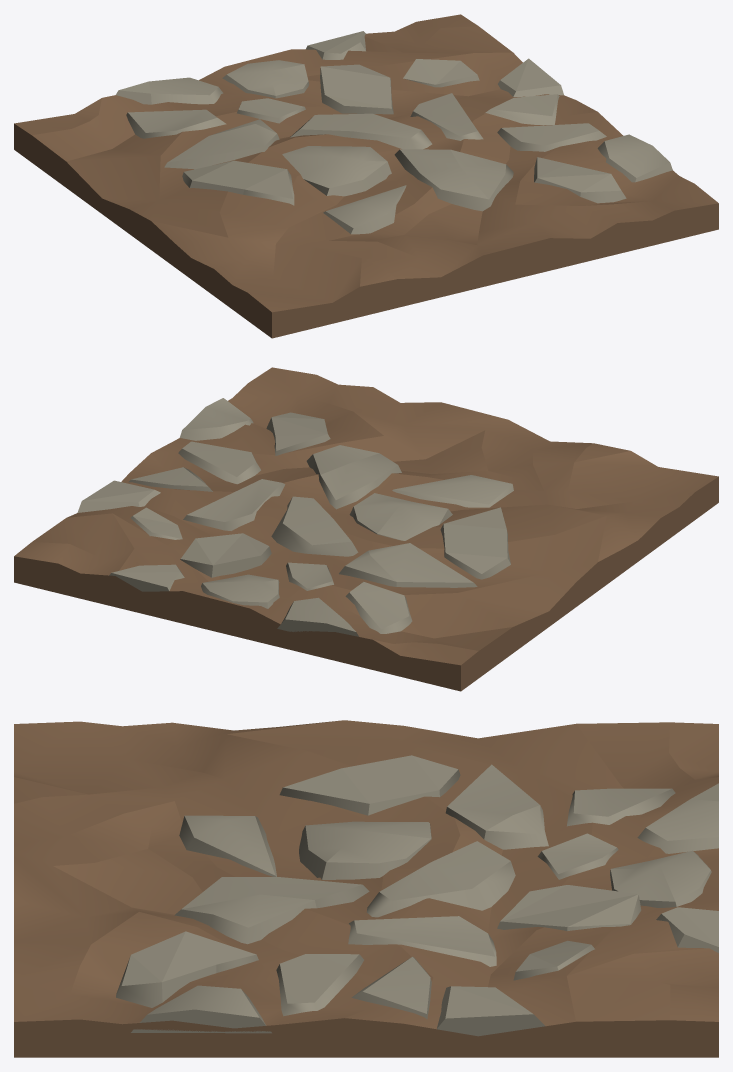
The model's file is Ground_Stone_Path_Turn_LB.glb.
3 renders of one model, top to bottom at view 1: azimuth 30°, elevation 25°; view 2: azimuth 150°, elevation 25°; view 3: azimuth 270°, elevation 25°, orthographic. The views are drawn at different scales.
Visible parts, largest first — view 1: Ground_Stone_Path_Turn_LB; view 2: Ground_Stone_Path_Turn_LB; view 3: Ground_Stone_Path_Turn_LB.
Part boxes in pixels (bbox=[...]): Ground_Stone_Path_Turn_LB: bbox=[14, 14, 718, 338]; Ground_Stone_Path_Turn_LB: bbox=[14, 367, 718, 691]; Ground_Stone_Path_Turn_LB: bbox=[14, 720, 718, 1057].
Size of the model in its own units: 1.47 by 0.1343 by 1.47.
